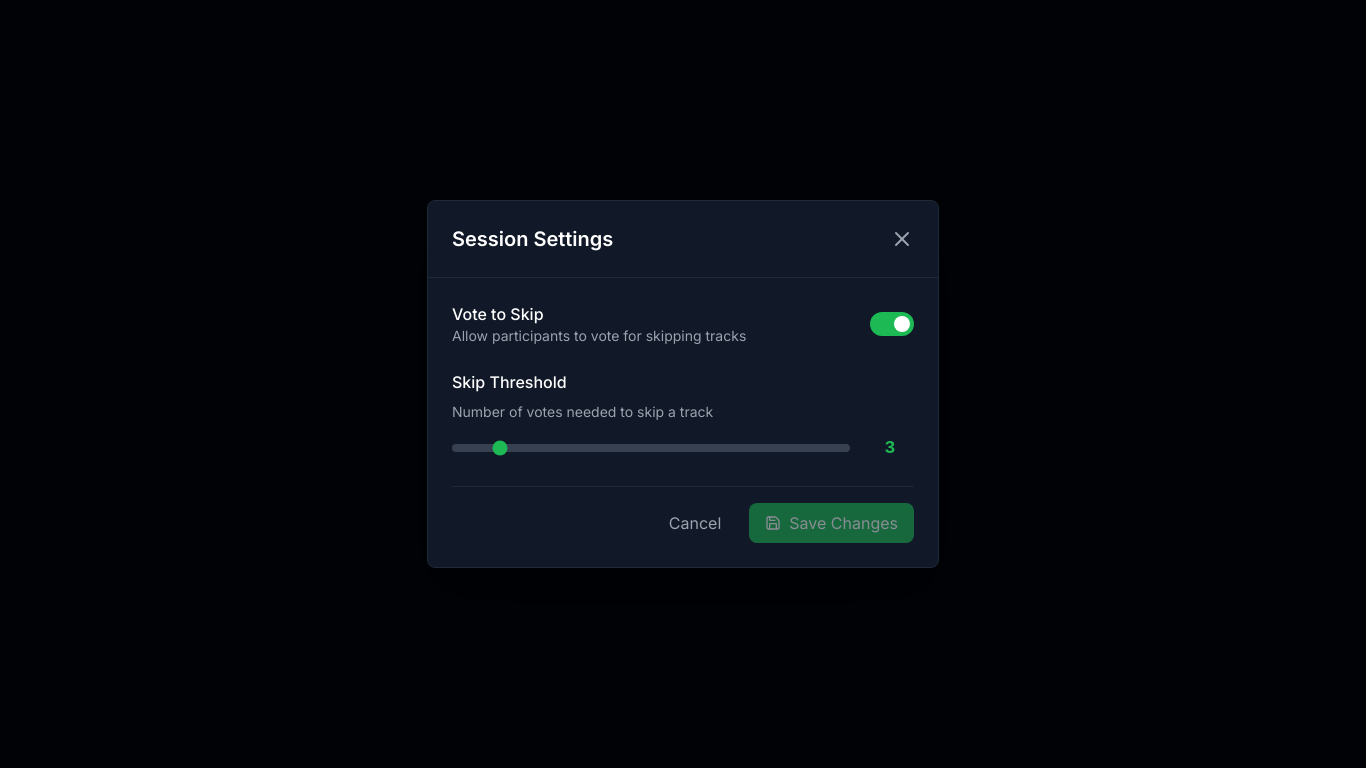
Test: SessionSettingsModal › Skip Threshold Slider › updates skip threshold value when slider is changed
Set the slider to "10" at (641, 448), box [452,444,850,452]
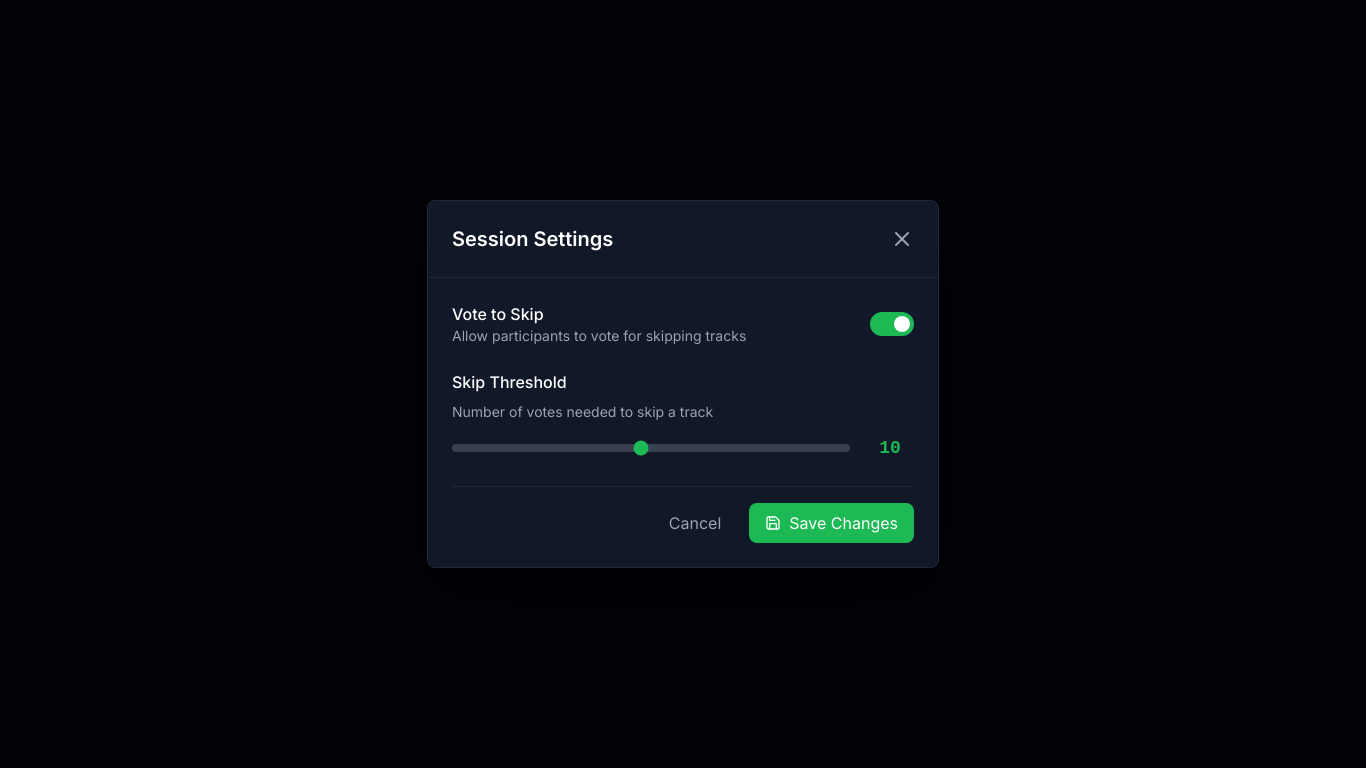
Result: the text "10" is shown at [879,438,901,458]
